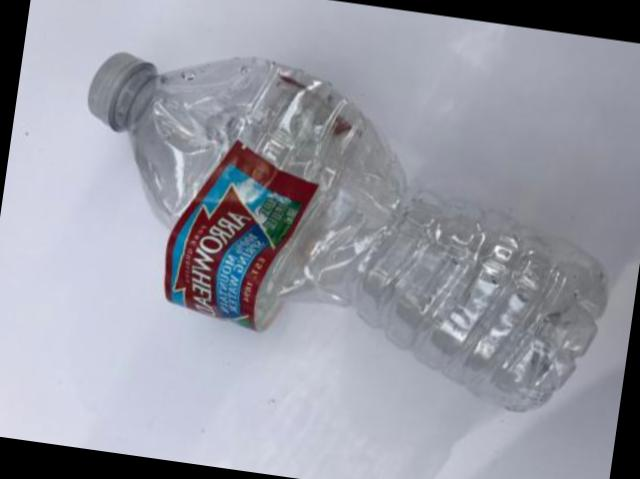plastic: (87, 54, 604, 412)
